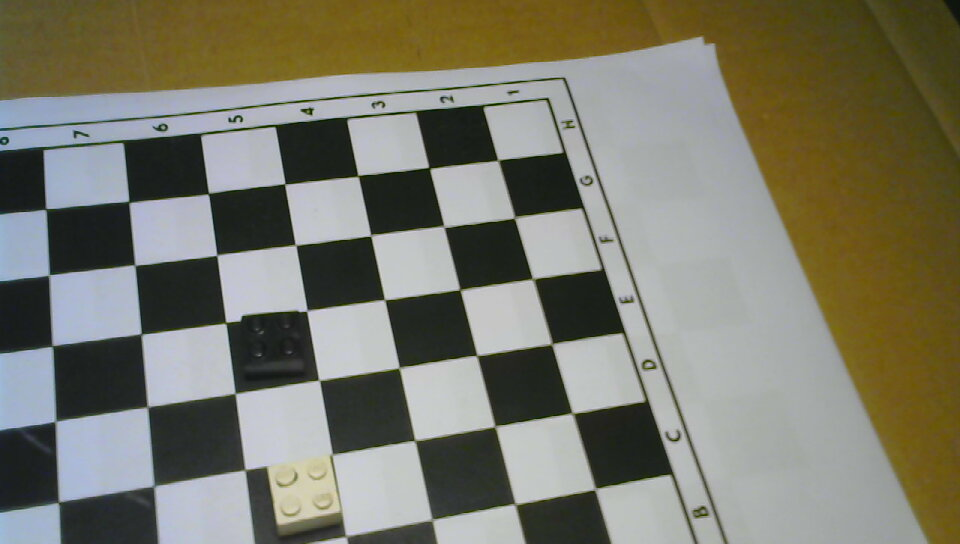bp: (235, 306, 310, 384)
